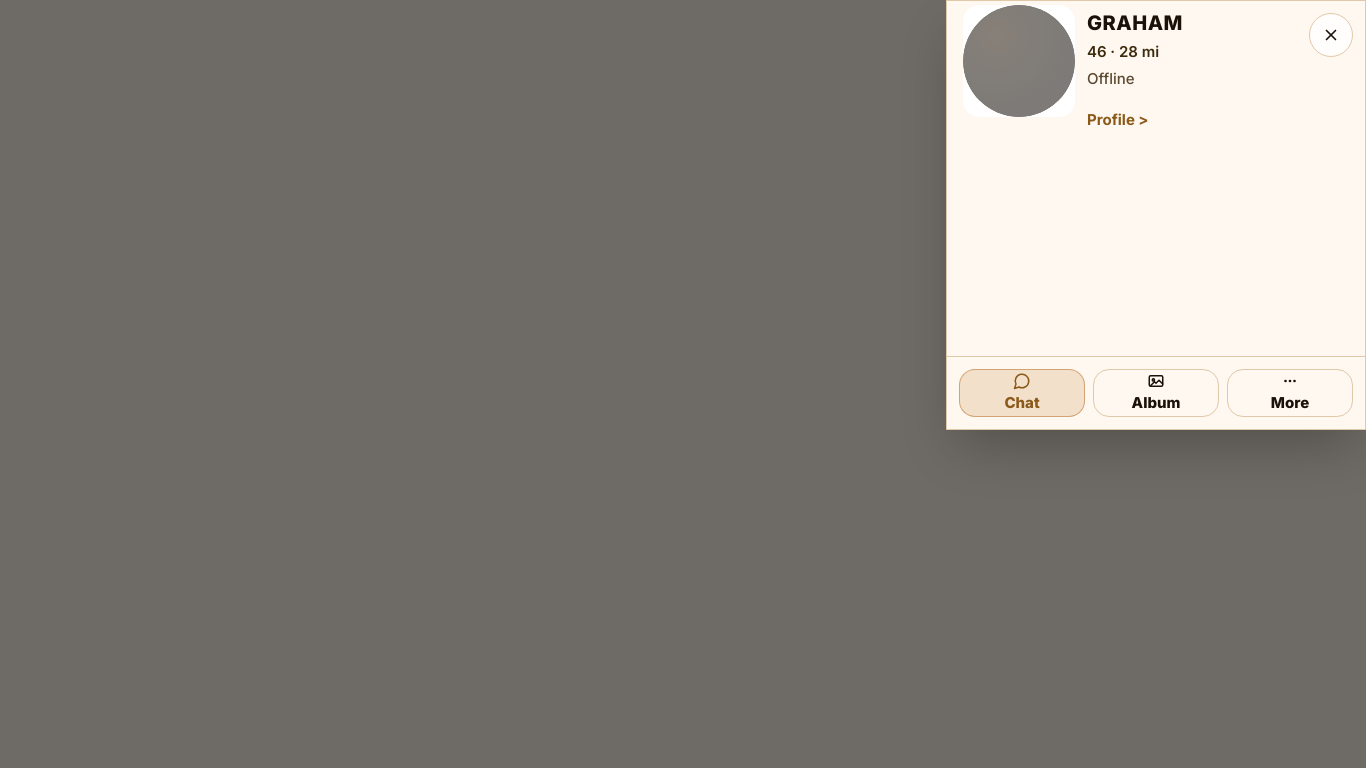
Test: ProfileDrawer pin sheet (redesign Step 1) › shows muted Sent in More when one-way pending
Click the button with test id "pin-sheet-more" at (1290, 393), box [1227,369,1353,417]
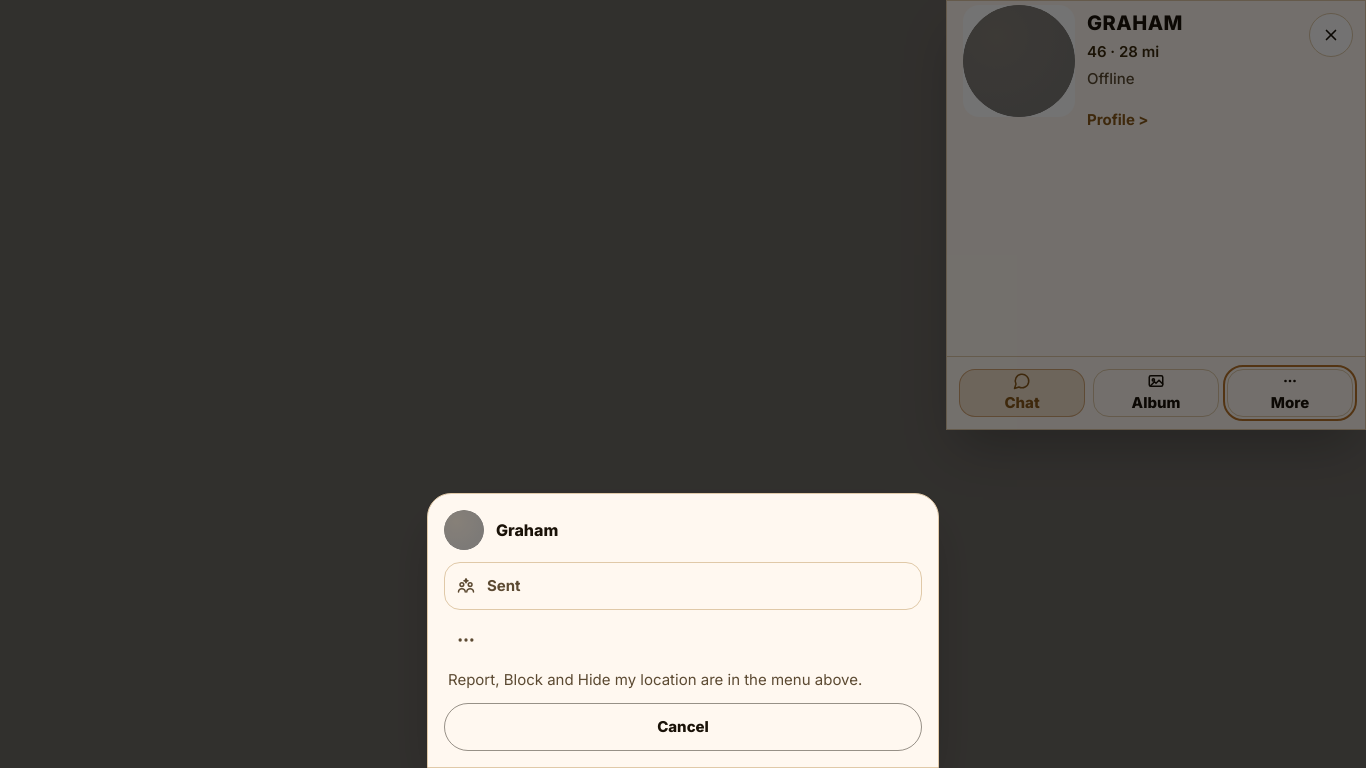
Expected: the button with test id "drawer-match" reads "Sent", [444,562,922,610]
Expected: the button with test id "drawer-match" is disabled, [444,562,922,610]
